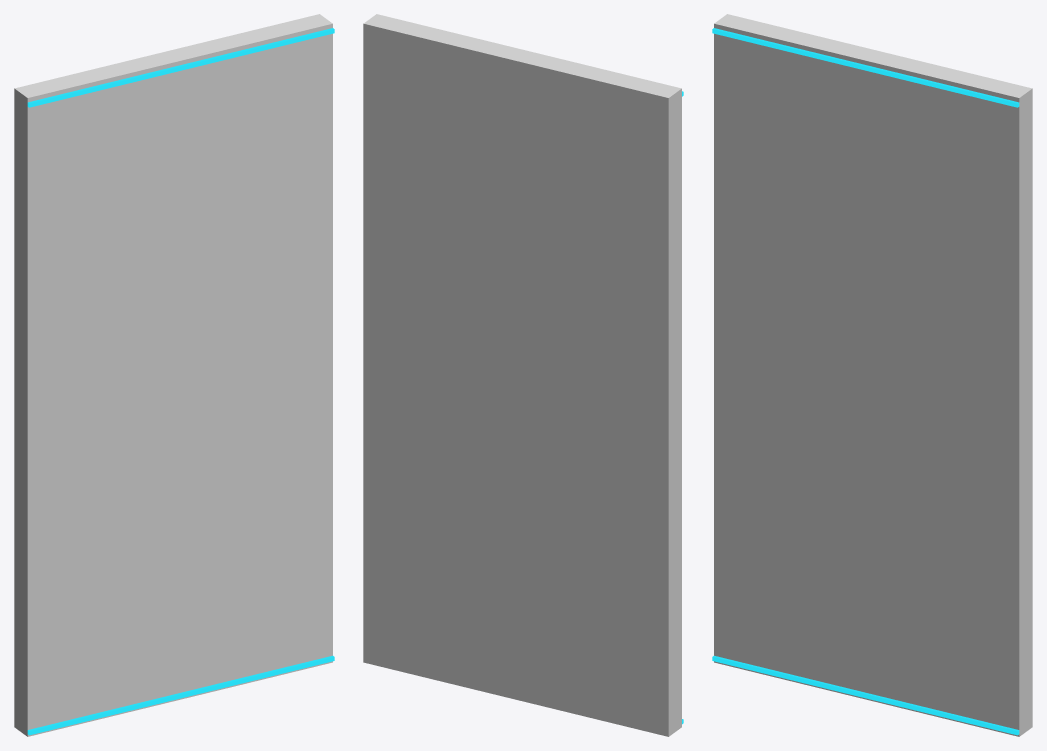
Rendered from Arch_Wall_Plain_2m.gltf.
3 views of the same model, side by side, from view 1: azimuth 30°, elevation 25°; view 2: azimuth 150°, elevation 25°; view 3: azimuth 330°, elevation 25° (orthographic).
Visible parts, largest first — view 1: Arch_Wall_Plain_2m_COL, Arch_Wall_Plain_2m; view 2: Arch_Wall_Plain_2m_COL; view 3: Arch_Wall_Plain_2m_COL, Arch_Wall_Plain_2m.
Part boxes in pixels (x1,y1,x2,y2): Arch_Wall_Plain_2m_COL: [14, 14, 332, 736]; Arch_Wall_Plain_2m: [27, 28, 334, 735]; Arch_Wall_Plain_2m_COL: [363, 14, 681, 736]; Arch_Wall_Plain_2m_COL: [714, 14, 1032, 736]; Arch_Wall_Plain_2m: [712, 28, 1019, 735].
Bounding box in the file's own units: 2 × 4 × 0.168.
